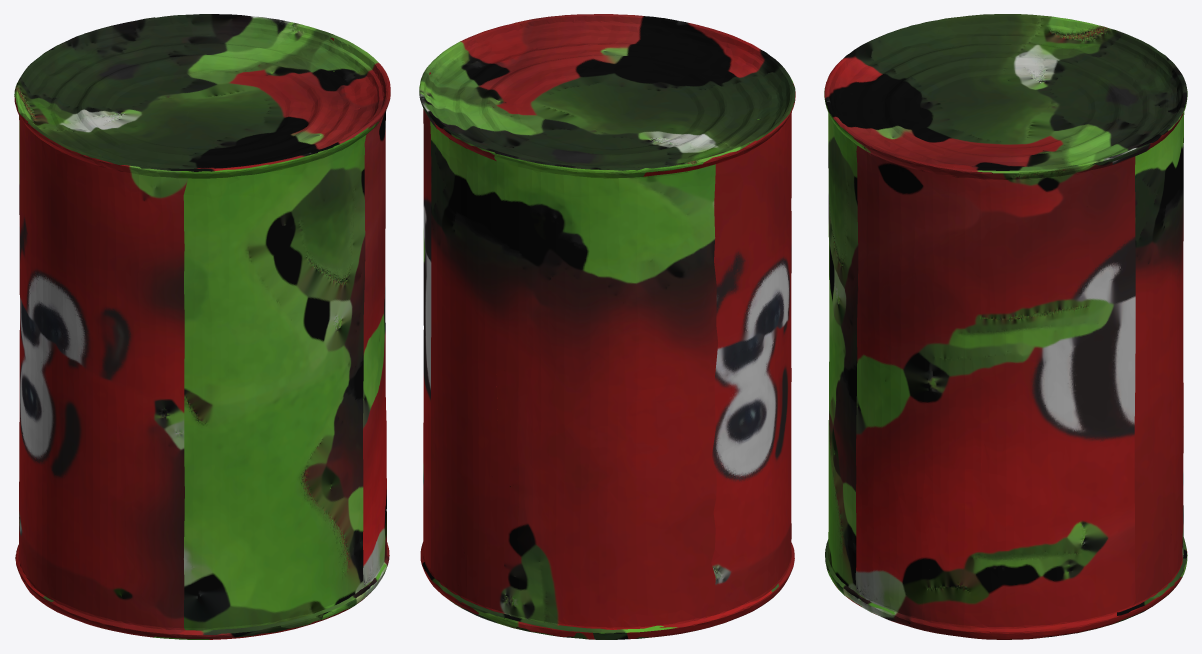
Rendered from sample.obj.
3 views of the same model, side by side, from view 1: azimuth 30°, elevation 25°; view 2: azimuth 150°, elevation 25°; view 3: azimuth 270°, elevation 25° (orthographic).
Bounding box in the file's own units: 0.0982 × 0.135 × 0.0946.
